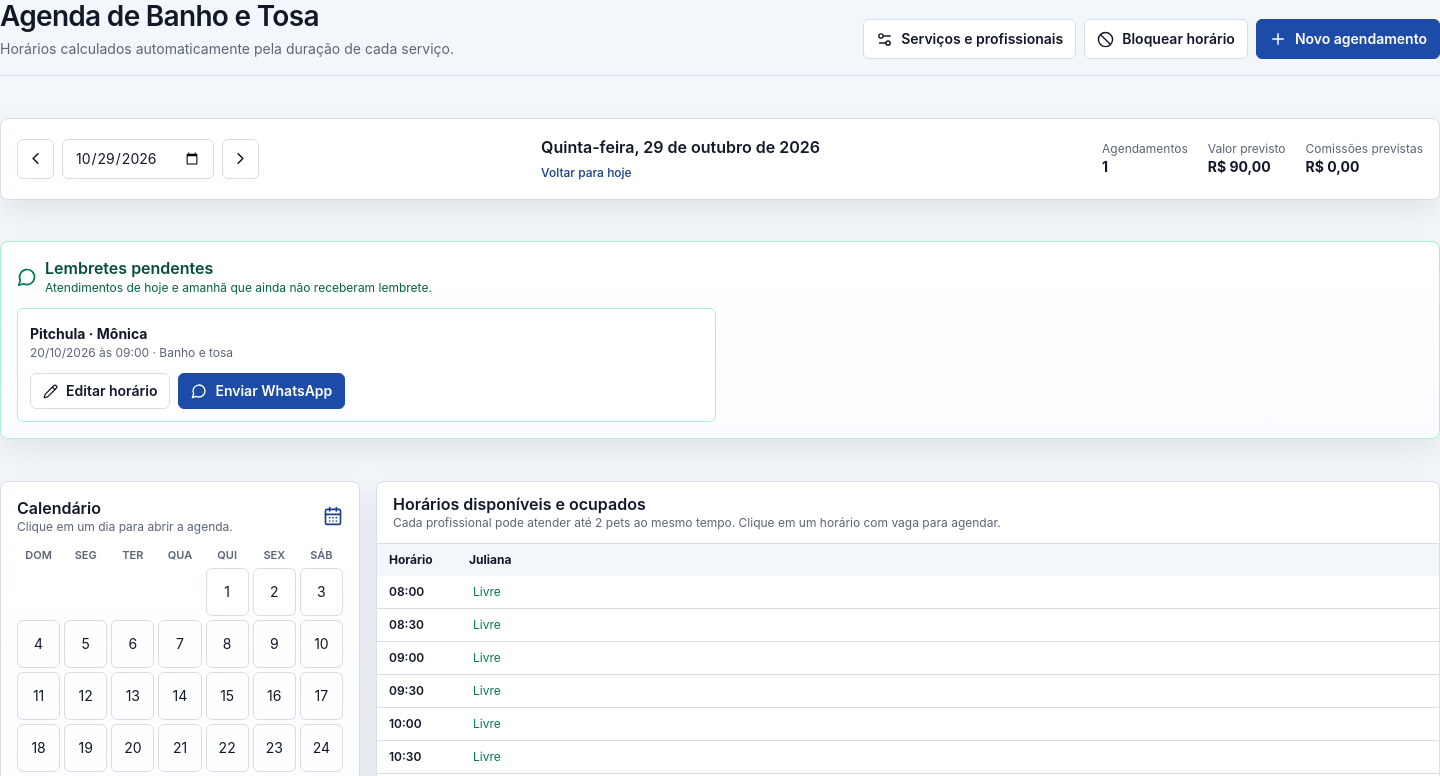
correção do horário na agenda › abre a edição pelo lembrete ou pelo atendimento: 0
Click the button "Editar horário".
click(100, 391)  # box [30, 373, 170, 409]
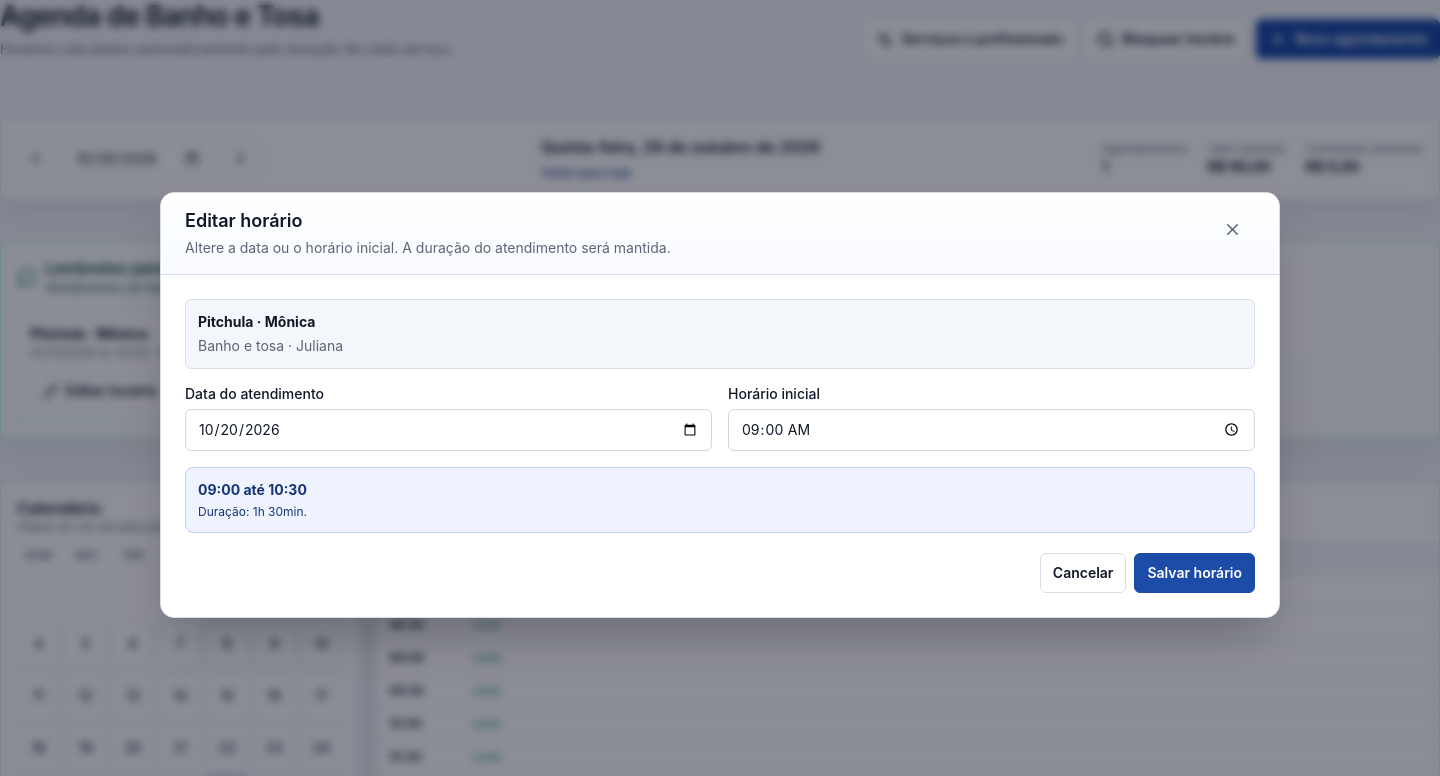
Expected: the date field labelled "Data do atendimento" holds "2026-10-20", [185, 409, 712, 451]
Expected: the time field labelled "Horário inicial" holds "09:00", [728, 409, 1255, 451]
Expected: the text "09:00 até 10:30" is shown, [198, 481, 307, 498]
